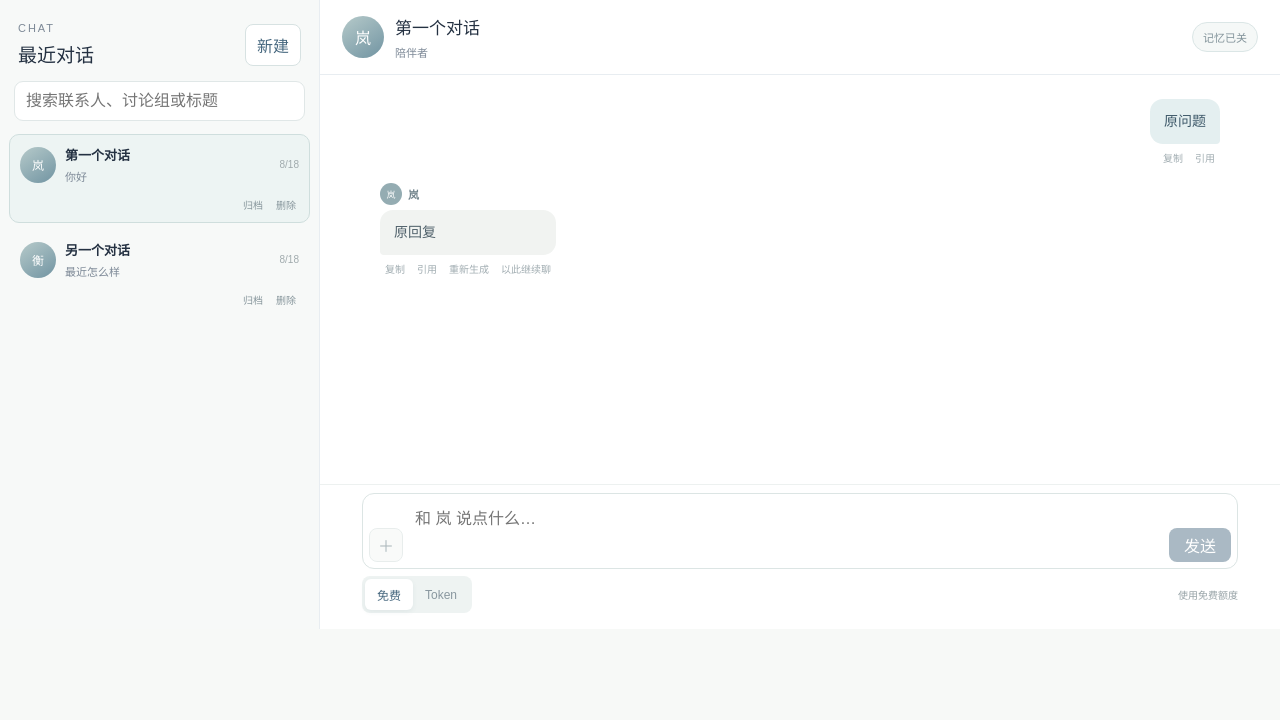
ChatShell › appends a regenerated reply without replacing the prior history
Expected: the text "原回复" is shown, [380, 210, 556, 255]
Step 1. Click the button "重新生成" → (469, 269), box [444, 258, 494, 279]
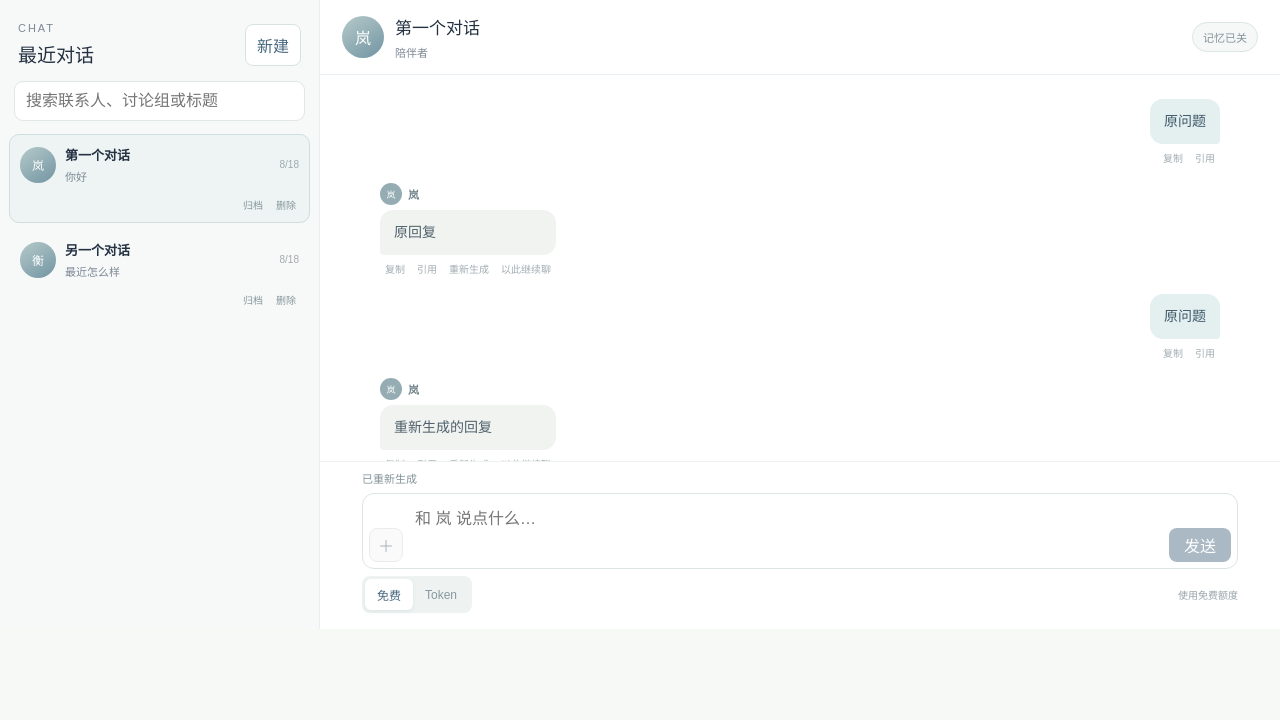
Expected: the text "原回复" is shown, [380, 210, 556, 255]
Expected: the text "重新生成的回复" is shown, [380, 405, 556, 450]
